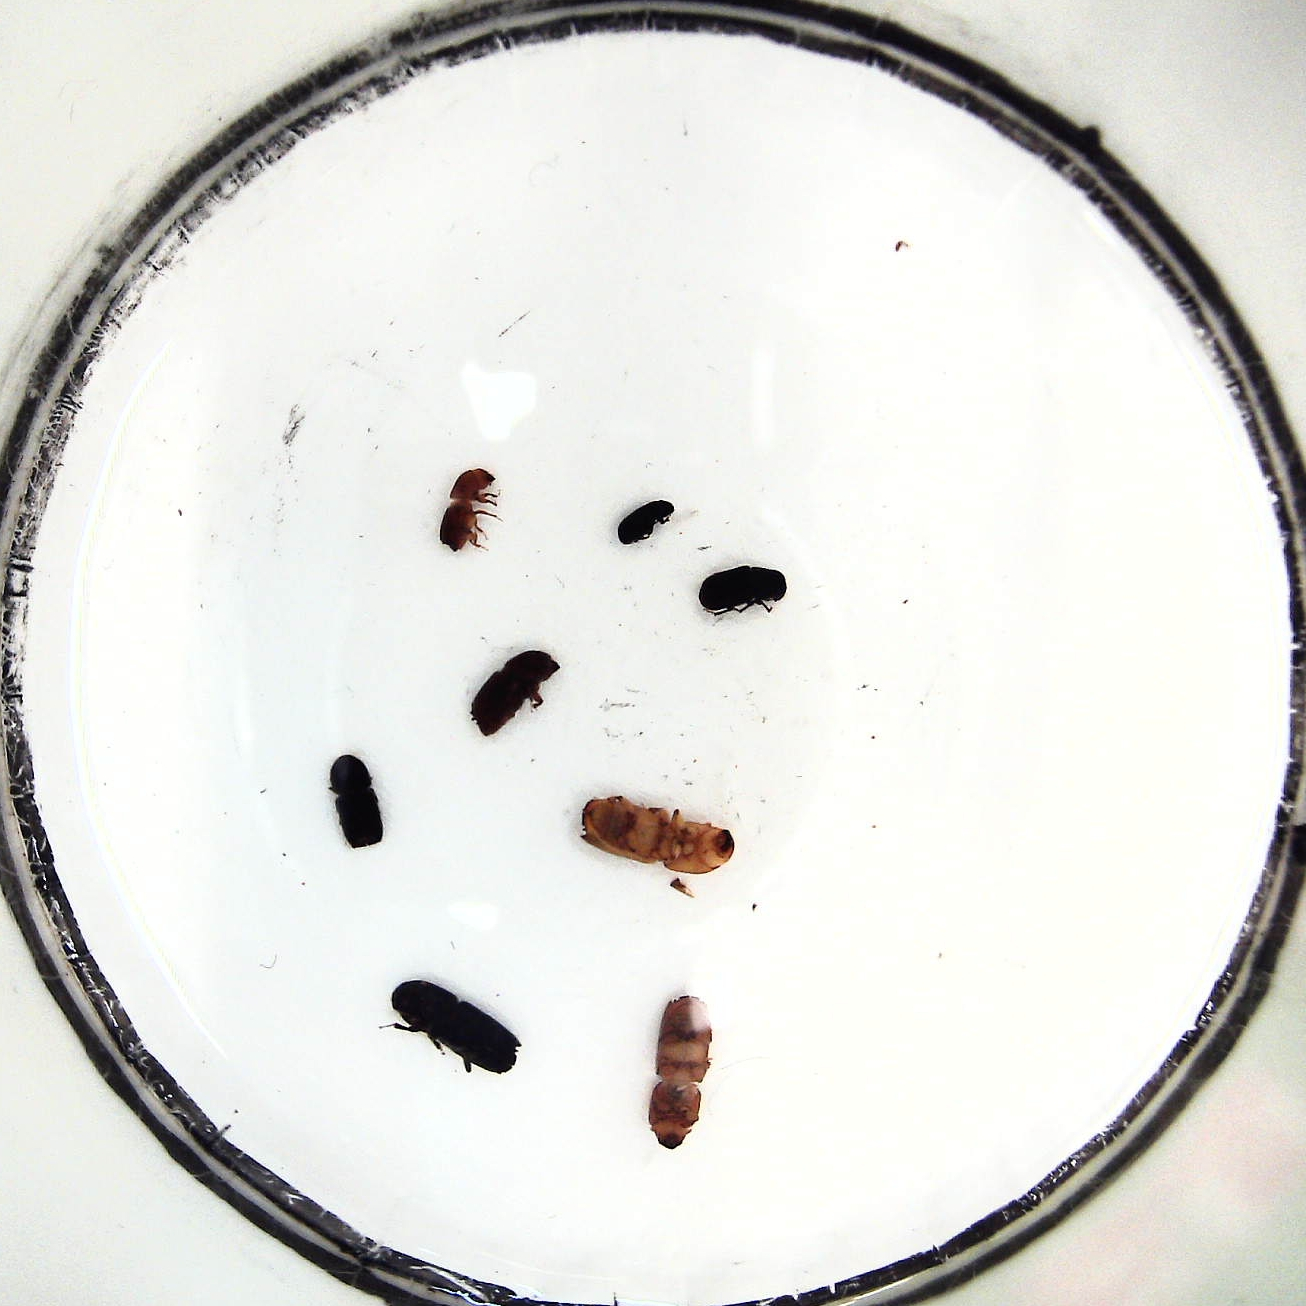Boerner: (576, 791, 736, 878), (391, 978, 521, 1075), (640, 994, 714, 1152)
Linnaeus: (468, 649, 562, 739), (326, 752, 386, 852)
acuminatus: (431, 465, 499, 557)
armandi: (696, 561, 788, 620)
coleoptera: (614, 498, 676, 553)
